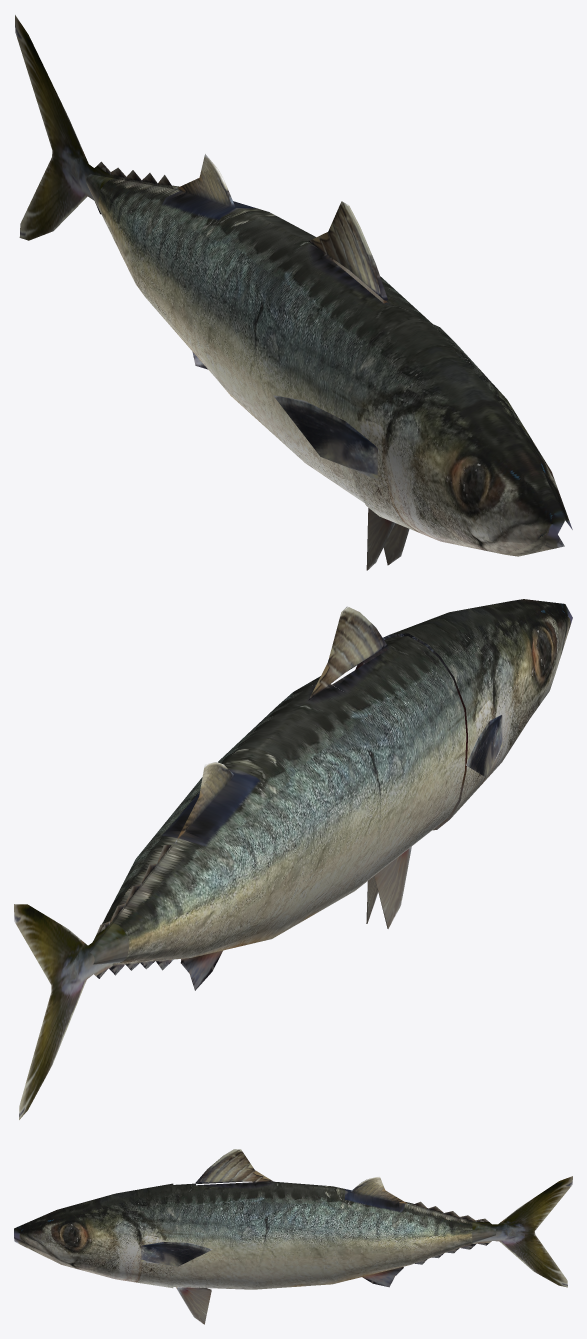
File: sabaAnime_natural0212.glb
3 views of the same model, one above another, from view 1: azimuth 30°, elevation 25°; view 2: azimuth 150°, elevation 25°; view 3: azimuth 270°, elevation 25° (orthographic). The views are drawn at different scales.
Visible parts, largest first — view 1: sabaNatural; view 2: sabaNatural; view 3: sabaNatural.
Part boxes in pixels (<box>): sabaNatural: <box>15,15,572,570</box>; sabaNatural: <box>14,599,572,1119</box>; sabaNatural: <box>14,1149,572,1324</box>.
Size of the model in its own units: 0.6466 by 1.09 by 3.19.
2 materials, 2 textured.
